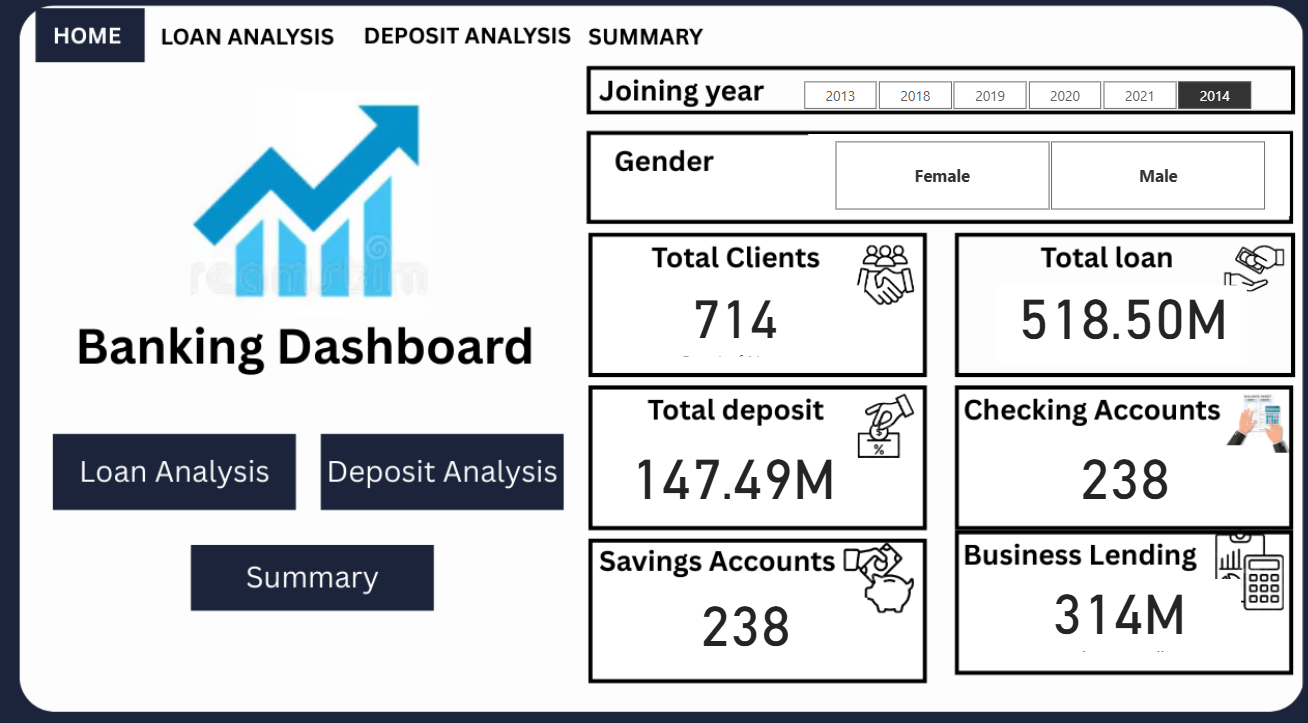

The dashboard page shown, as its layout file describes it:
{"tool":"powerbi","page":{"name":"Home 2","canvas":[1280,720],"ordinal":1},"visuals":[{"type":"card","fields":{"Values":["CountNonNull(Banking.Name)"]},"box":[587.3,285.4,249.7,74.1],"z":0},{"type":"slicer","fields":{"Values":["Banking.GenderId"]},"box":[783.5,140,465.2,79.6],"z":1000},{"type":"card","fields":{"Values":["Banking.Total Loan"]},"box":[966,285.4,240.1,74.1],"z":2000},{"type":"card","fields":{"Values":["Banking.Total Deposit"]},"box":[594.2,440.5,234.6,74.1],"z":3000},{"type":"slicer","fields":{"Values":["Banking.year_of_joining"]},"box":[753.3,82.3,481.6,34.3],"z":4000},{"type":"card","fields":{"Values":["Banking.Saving Accounts"]},"box":[605.1,587.3,234.2,63.3],"z":5000},{"type":"card","fields":{"Values":["Banking.Business_Lending"]},"box":[966,569.5,234.6,75.5],"z":6000},{"type":"card","fields":{"Values":["Banking.checking_Accounts"]},"box":[971.2,440.4,235.3,73.6],"z":7000},{"type":"actionButton","box":[56.7,430.7,229.2,71.2],"z":8000},{"type":"actionButton","box":[193,541.7,229.2,55.5],"z":9000},{"type":"actionButton","box":[316.1,430.7,229.2,71.2],"z":10000},{"type":"actionButton","box":[153.7,24.7,178.4,39.8],"z":11000},{"type":"actionButton","box":[344.4,24.7,215.4,39.8],"z":12000},{"type":"actionButton","box":[569.5,24.7,130.4,39.8],"z":13000}]}

Visuals, with their boxes in screenshot pixels (x1, y1, x2, y2), scaled from the page's 1280x720 canvas onto the 1308x723 screenshot:
card - CountNonNull(Banking.Name): (left=600, top=287, right=855, bottom=361)
slicer - Banking.GenderId: (left=801, top=141, right=1276, bottom=221)
card - Banking.Total Loan: (left=987, top=287, right=1232, bottom=361)
card - Banking.Total Deposit: (left=607, top=442, right=847, bottom=517)
slicer - Banking.year_of_joining: (left=770, top=83, right=1262, bottom=117)
card - Banking.Saving Accounts: (left=618, top=590, right=858, bottom=653)
card - Banking.Business_Lending: (left=987, top=572, right=1227, bottom=648)
card - Banking.checking_Accounts: (left=992, top=442, right=1233, bottom=516)
actionButton: (left=58, top=432, right=292, bottom=504)
actionButton: (left=197, top=544, right=431, bottom=600)
actionButton: (left=323, top=432, right=557, bottom=504)
actionButton: (left=157, top=25, right=339, bottom=65)
actionButton: (left=352, top=25, right=572, bottom=65)
actionButton: (left=582, top=25, right=715, bottom=65)
